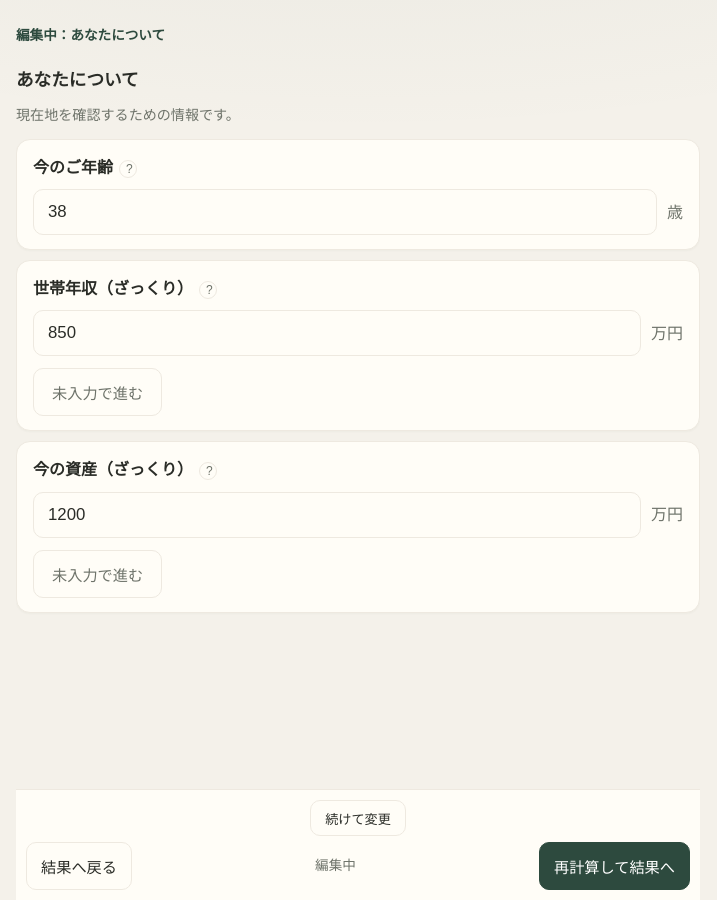
result → multi-edit → continue (rough) › clicking 続けて変更 in the input nav returns to result with the edit details opened
The width and height of the screenshot is (717, 900).
Click the button "続けて変更": (358, 818) [310,800,406,836]
(page scrolled)
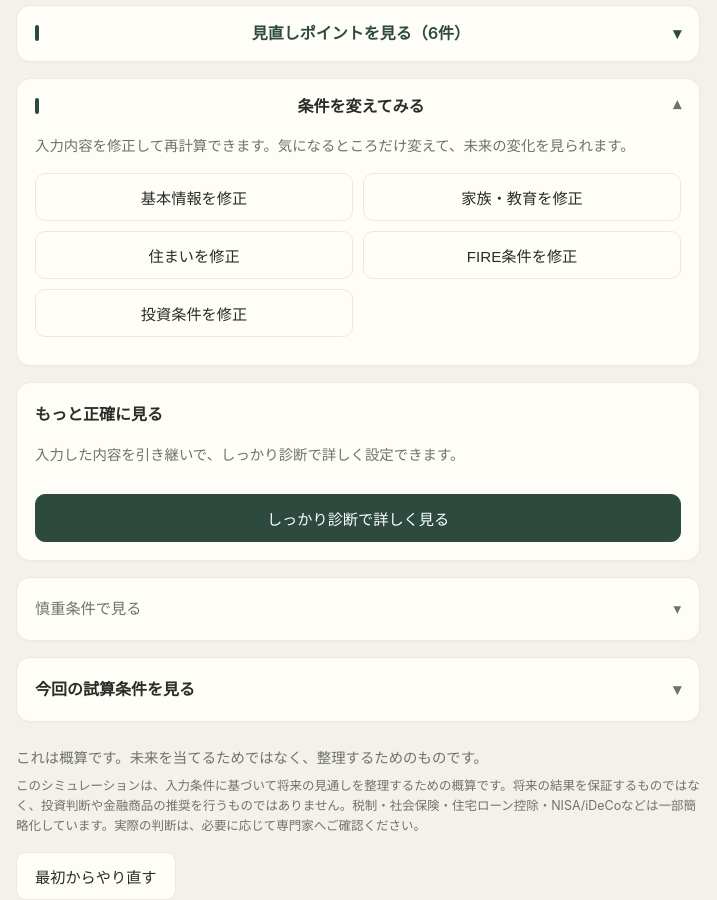
Expected: the element with class "collapsible" that starts with "条件を変えてみる" is shown, [16,78,700,366]
